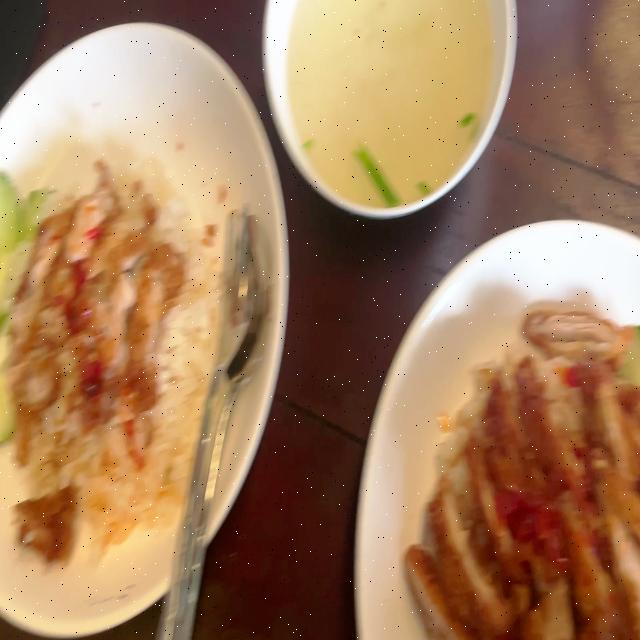chicken_rice: (0, 154, 229, 556), (411, 309, 640, 640)
cucumber: (0, 166, 53, 320), (0, 325, 17, 455), (619, 323, 640, 402)
fried_chicken: (405, 314, 639, 640), (30, 164, 182, 408), (9, 478, 81, 568)
